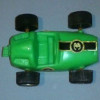verde_este: (4, 13, 97, 86)
